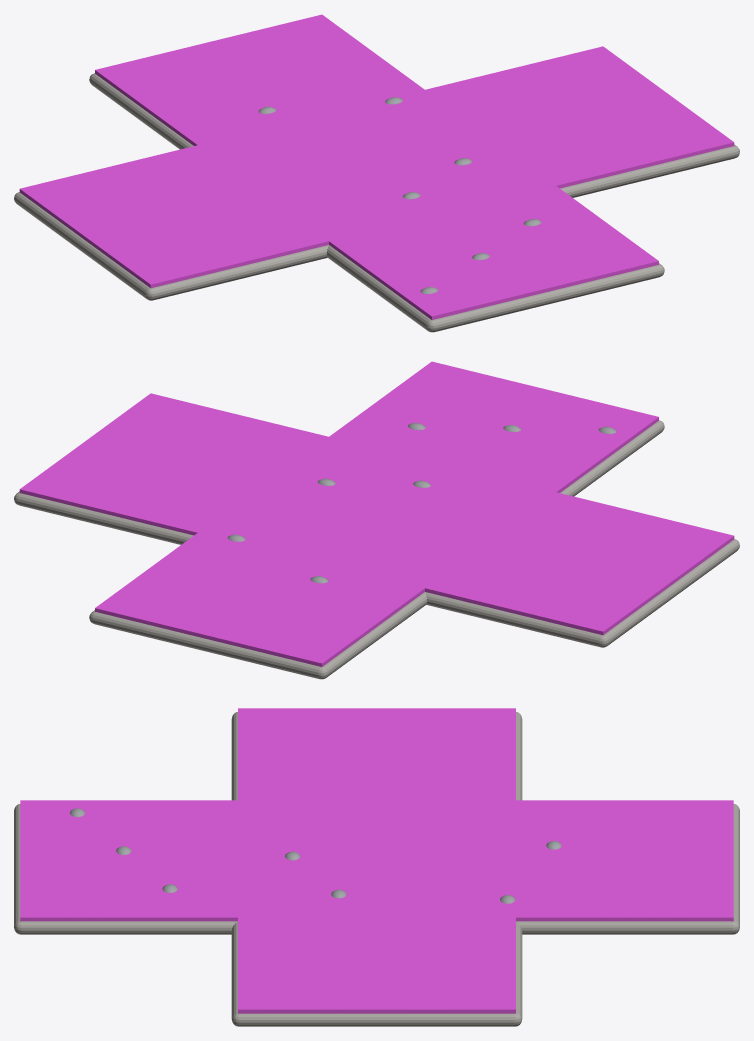
File: forest_path_gravel_junction_lod0_v1.glb
3 views of the same model, one above another, from view 1: azimuth 30°, elevation 25°; view 2: azimuth 150°, elevation 25°; view 3: azimuth 270°, elevation 25° (orthographic). The views are drawn at different scales.
Parts seen in each view (by area): view 1: NAV_MASK_FOREST_PATH_GRAVEL_JUNCTION_EW, NAV_MASK_FOREST_PATH_GRAVEL_JUNCTION_NS, LOD0_FOREST_PATH_GRAVEL_JUNCTION_EW, LOD0_FOREST_PATH_GRAVEL_JUNCTION_NS; view 2: NAV_MASK_FOREST_PATH_GRAVEL_JUNCTION_EW, NAV_MASK_FOREST_PATH_GRAVEL_JUNCTION_NS, LOD0_FOREST_PATH_GRAVEL_JUNCTION_EW, LOD0_FOREST_PATH_GRAVEL_JUNCTION_NS; view 3: NAV_MASK_FOREST_PATH_GRAVEL_JUNCTION_NS, NAV_MASK_FOREST_PATH_GRAVEL_JUNCTION_EW, LOD0_FOREST_PATH_GRAVEL_JUNCTION_NS, LOD0_FOREST_PATH_GRAVEL_JUNCTION_EW.
Part boxes in pixels (<box>): NAV_MASK_FOREST_PATH_GRAVEL_JUNCTION_EW: <box>19,46,734,288</box>; NAV_MASK_FOREST_PATH_GRAVEL_JUNCTION_NS: <box>95,14,658,319</box>; LOD0_FOREST_PATH_GRAVEL_JUNCTION_EW: <box>14,144,739,300</box>; LOD0_FOREST_PATH_GRAVEL_JUNCTION_NS: <box>89,73,664,332</box>; NAV_MASK_FOREST_PATH_GRAVEL_JUNCTION_EW: <box>19,393,734,635</box>; NAV_MASK_FOREST_PATH_GRAVEL_JUNCTION_NS: <box>95,361,658,666</box>; LOD0_FOREST_PATH_GRAVEL_JUNCTION_EW: <box>14,491,739,647</box>; LOD0_FOREST_PATH_GRAVEL_JUNCTION_NS: <box>89,420,664,679</box>; NAV_MASK_FOREST_PATH_GRAVEL_JUNCTION_NS: <box>20,800,733,921</box>; NAV_MASK_FOREST_PATH_GRAVEL_JUNCTION_EW: <box>238,708,515,1013</box>; LOD0_FOREST_PATH_GRAVEL_JUNCTION_NS: <box>14,804,739,934</box>; LOD0_FOREST_PATH_GRAVEL_JUNCTION_EW: <box>231,712,522,1026</box>.
Size of what is drawn, in the model's own units: 8 by 0.24 by 8.
